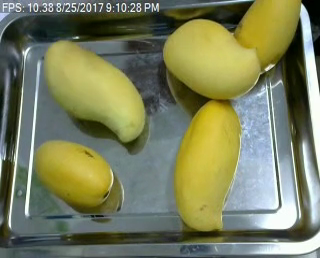Mango: (40, 40, 148, 142), (174, 100, 241, 232), (160, 18, 261, 100), (34, 140, 116, 208), (230, 0, 301, 78)
